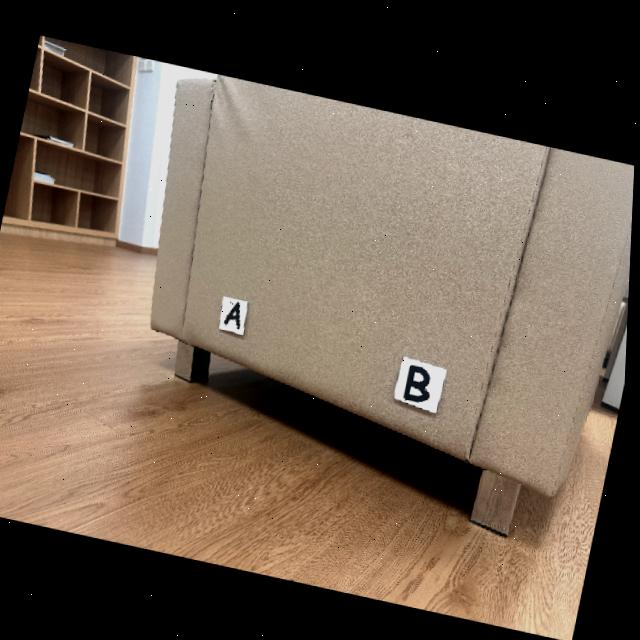A: (226, 299, 243, 325)
B: (407, 360, 434, 397)
